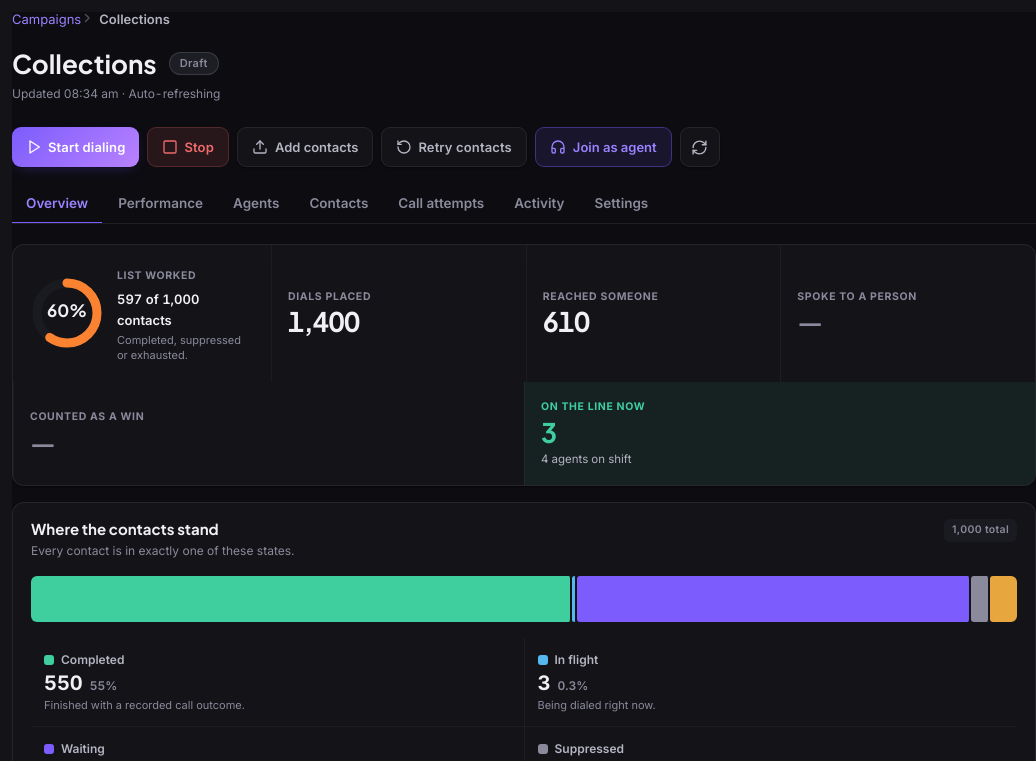
Test: campaign detail — a stale Start/Resume must not 409 › re-reads before POSTing start, so a stale Start never reaches the network
Click the button "Start dialing" at point(76, 147), box [12,127,139,167]
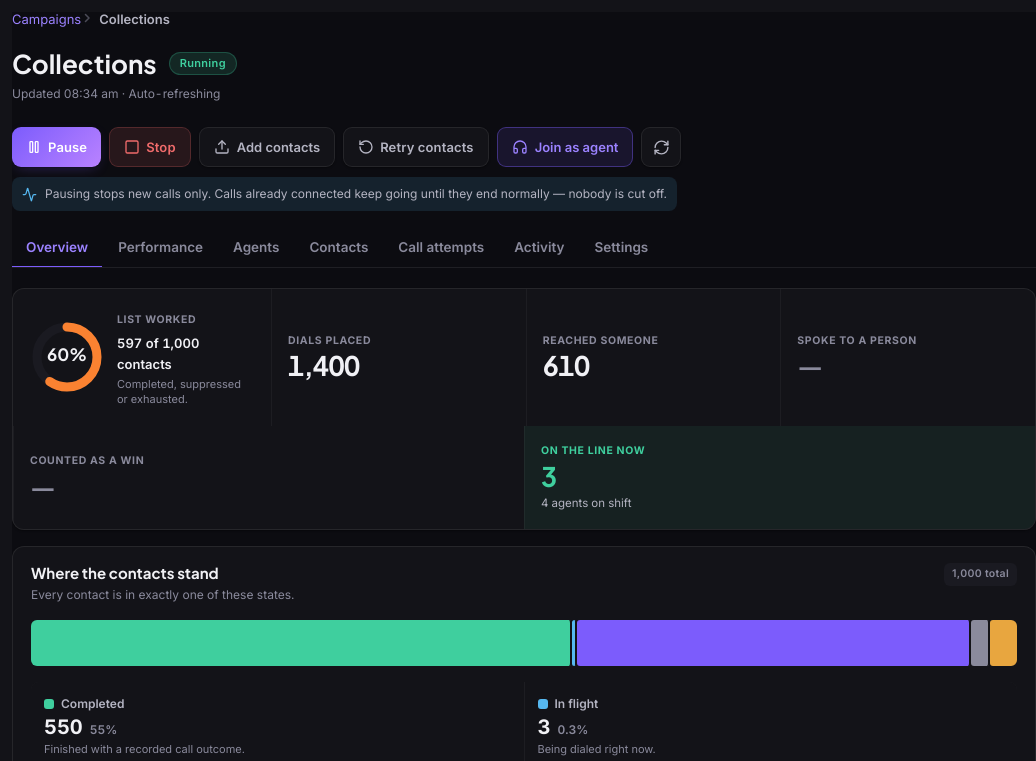
Check: the button "Pause" is shown, box [12,127,101,167]
Check: the button "Start dialing" is gone
